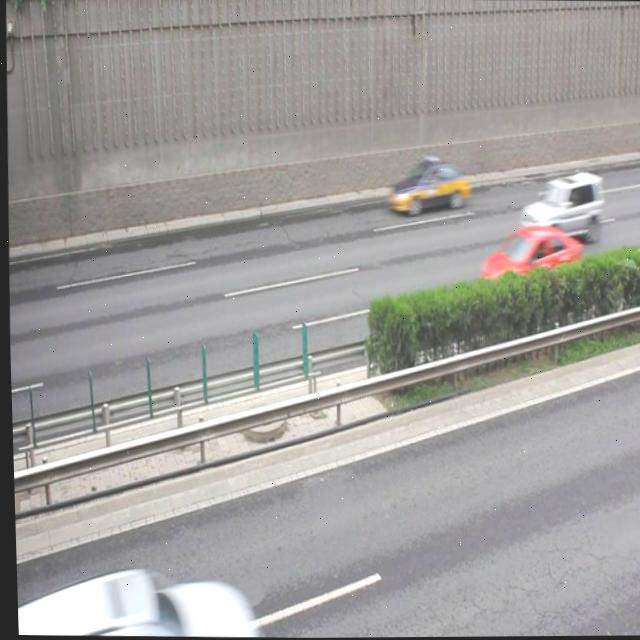car: (14, 560, 259, 638), (473, 224, 579, 302), (515, 169, 602, 245), (385, 155, 470, 217)
